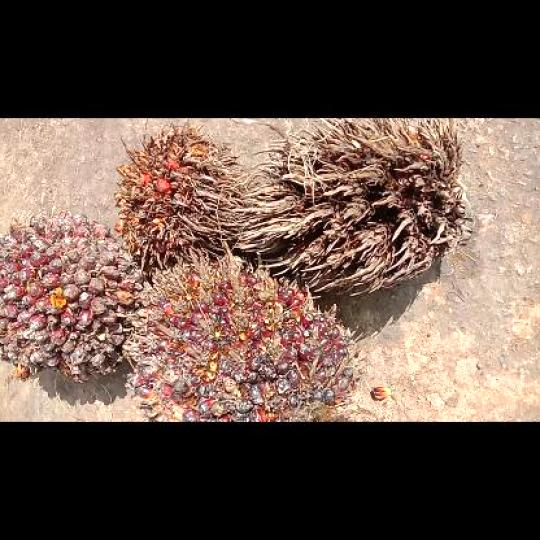kurang masak: (0, 218, 140, 377)
masak: (132, 257, 364, 421)
terlalu masak: (113, 120, 250, 259)
